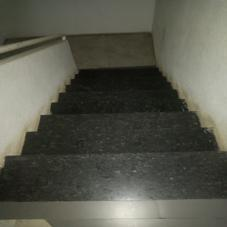Stair Down: (0, 64, 227, 201)
